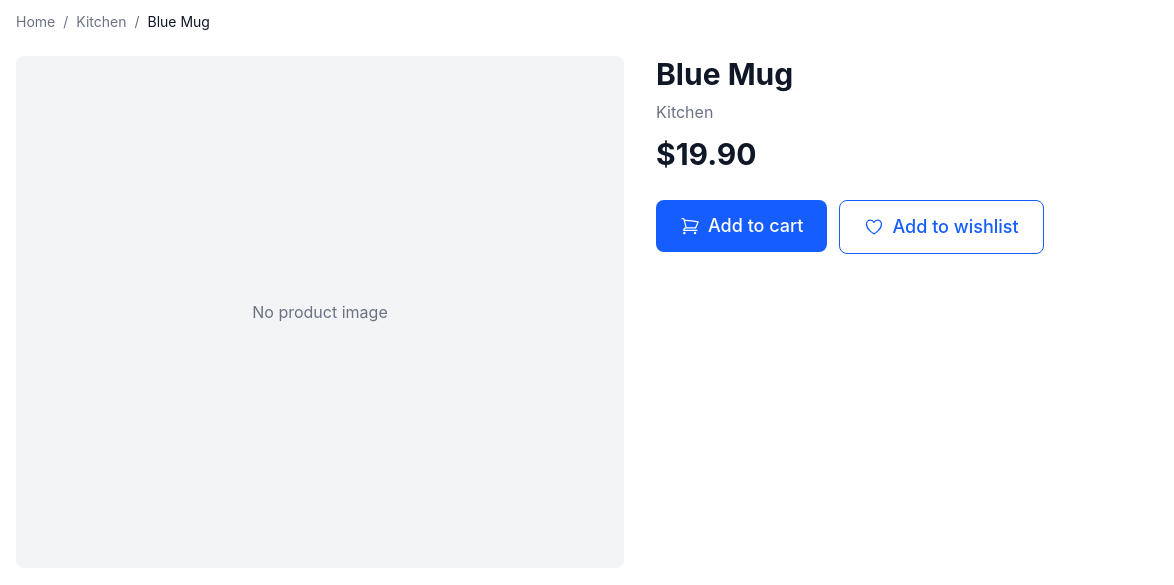
ProductDetailPage wishlist button › keeps the previous visual state when the backend request fails
The image size is (1174, 585).
Click the button "Add to wishlist" at (942, 227), box [840,200,1044,254]
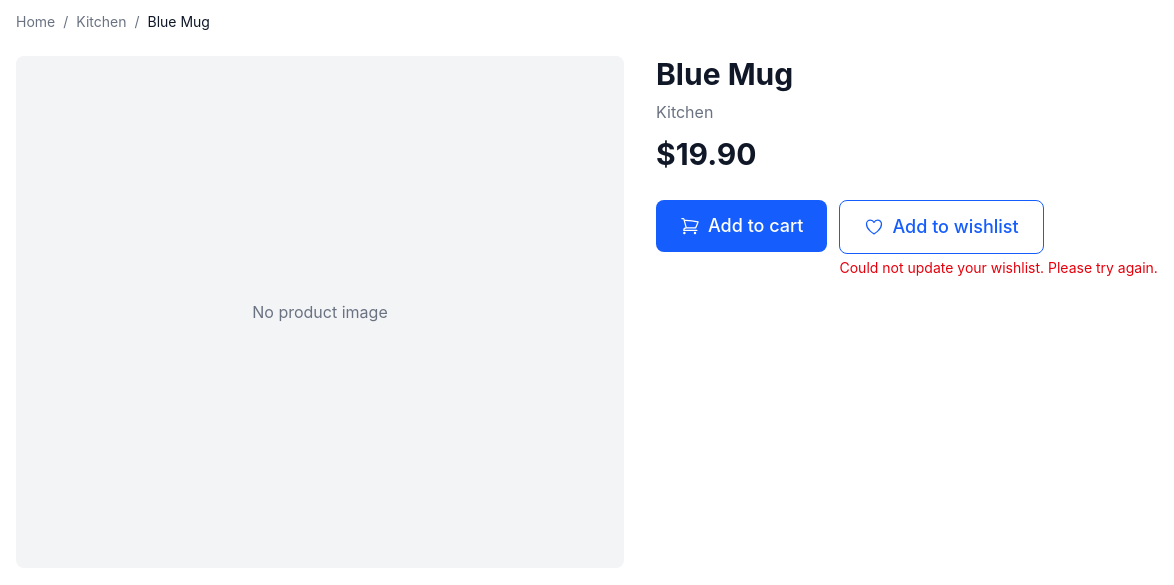
Check: the text "Could not update your wishlist. Please try again." is shown, box [840,258,1158,278]
